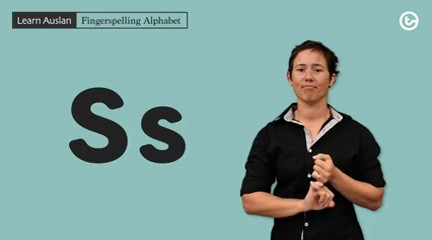S: (296, 147, 345, 217)
